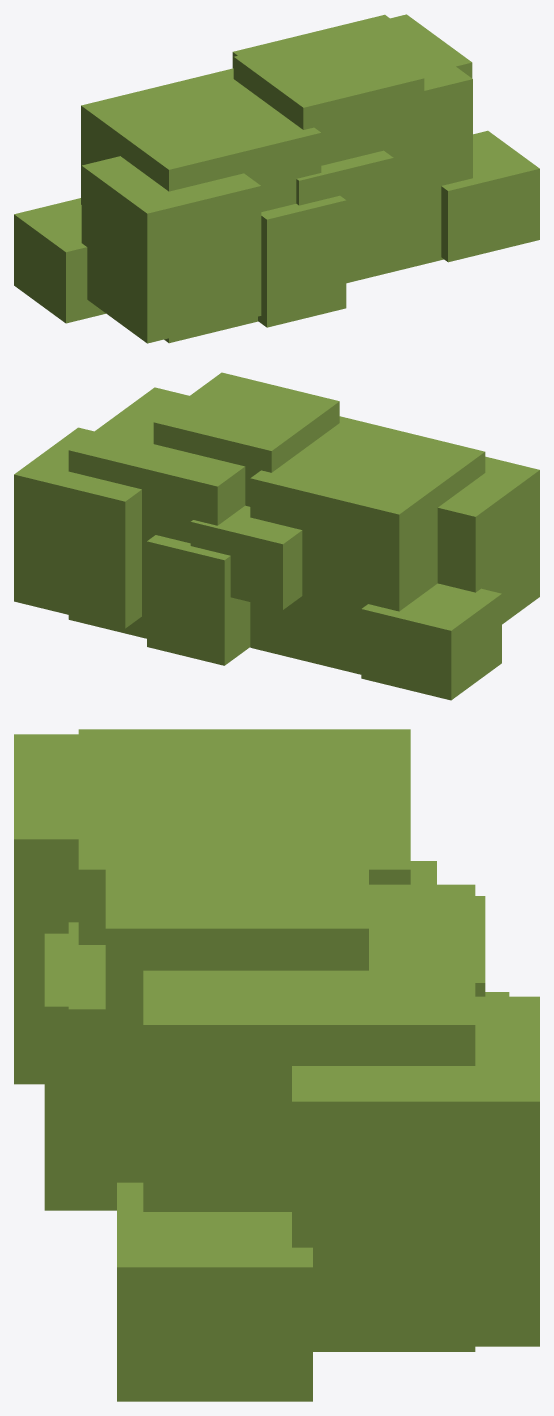
The model's file is SM_Bush_01_C.fbx.
The picture shows the model from 3 angles, top to bottom: view 1: azimuth 30°, elevation 25°; view 2: azimuth 150°, elevation 25°; view 3: azimuth 270°, elevation 25°; orthographic projection. The views are drawn at different scales.
Parts seen in each view (by area): view 1: pCube262; view 2: pCube262; view 3: pCube262.
Boxes of the visible parts, <box> form: pCube262: <box>14,14,539,343</box>; pCube262: <box>14,372,539,700</box>; pCube262: <box>14,729,539,1401</box>.
Size of the model in its own units: 94.75 by 40.15 by 51.84.
